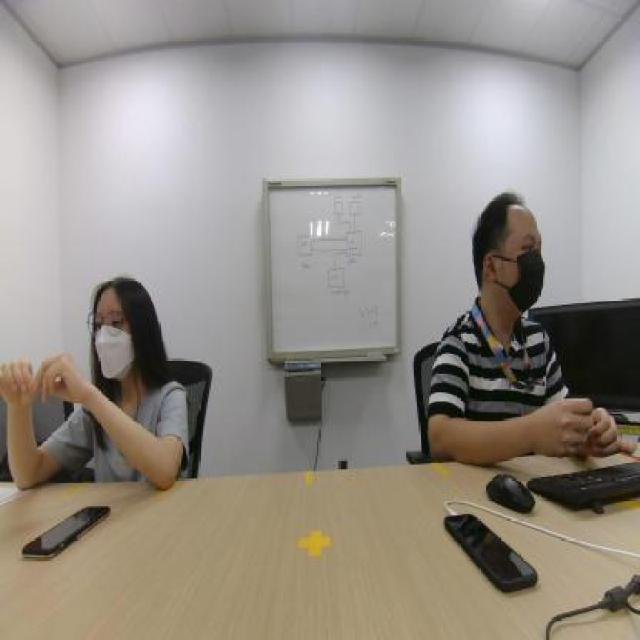Person: (399, 172, 581, 446), (16, 235, 209, 473)
